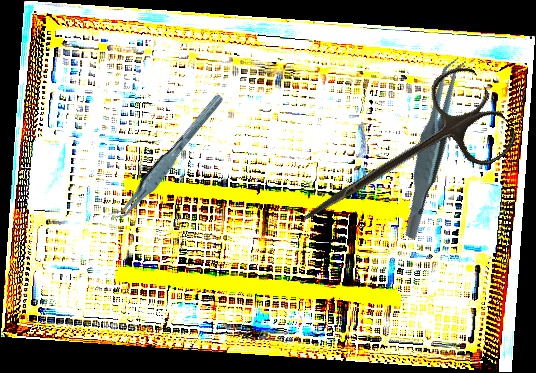Iris Scissors: (279, 58, 522, 266)
Tissue Forceps: (368, 54, 498, 240), (97, 92, 238, 226)
